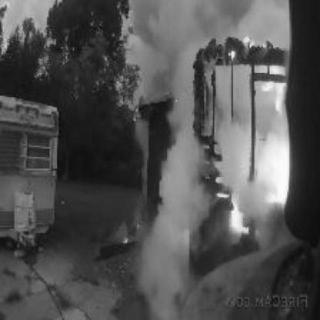Fire: (108, 89, 156, 133)
